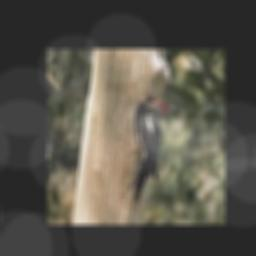Woodpecker: (134, 100, 168, 202)
